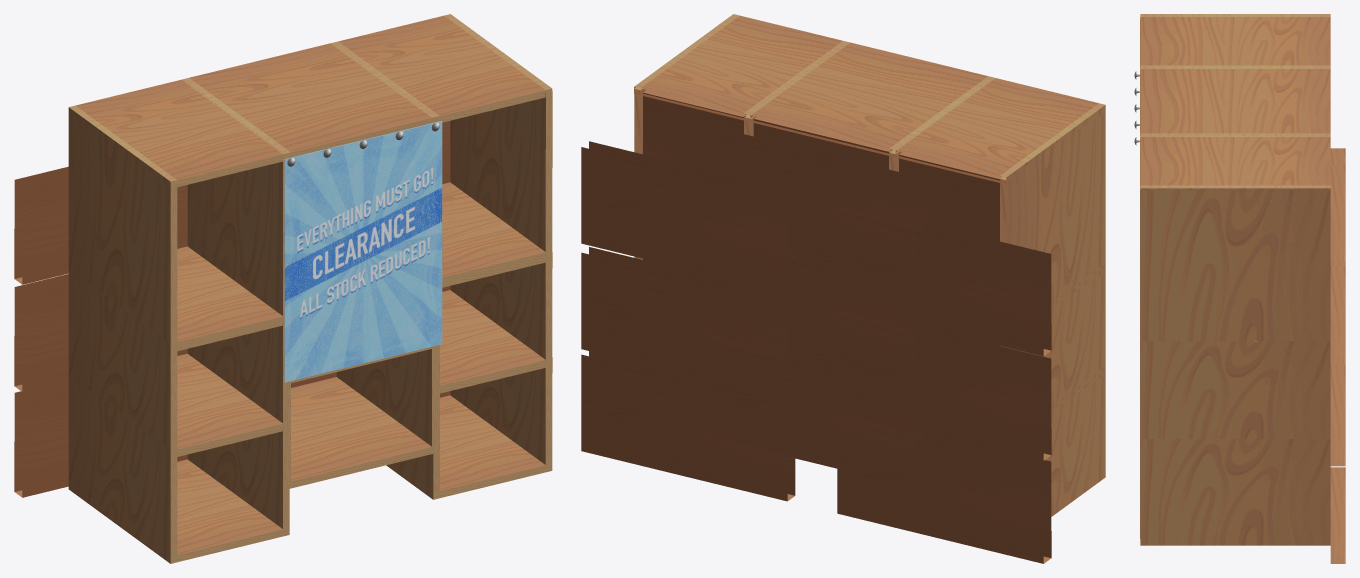
File: layout_poster_3_by_3_closed.fbx
3 renders of one model, left to right at view 1: azimuth 30°, elevation 25°; view 2: azimuth 150°, elevation 25°; view 3: azimuth 270°, elevation 25°, orthographic. The views are drawn at different scales.
Parts seen in each view (by area): view 1: Mesh-Poster-Large01, Shelf-CL-01 8, Shelf-TM-00 5, Shelf-CL-01 6, Shelf-CL-01 7, Shelf-CR-01 2, Shelf-TM-00 8, Shelf-TM-00 2, Shelf-CR-01 8, Shelf-BM-00 3, Shelf-BM-00 6, Shelf-BM-00 (+21 smaller); view 2: Shelf-Back-00 (1) 7, Shelf-Back-00 (1) 2, Shelf-Back-00 (1) 6, Shelf-Back-00 (1) 8, Shelf-Back-00 (1) 3, Shelf-Back-00 (1) 5, Shelf-Back-00 (1) 1, Shelf-Back-00 (1), Shelf-Back-00 (1) 4, Shelf-TM-00 5, Shelf-CL-01 8, Shelf-TM-00 2 (+10 smaller); view 3: Shelf-CR-01 2, Shelf-CR-01, Shelf-CR-01 1, Shelf-TM-00 5, Shelf-TM-00 2, Shelf-TM-00 8, Shelf-Back-00 (1) 1, Shelf-Back-00 (1), Shelf-Back-00 (1) 2, Shelf-Back-00 (1) 5, Shelf-CR-00, Shelf-CR-00 (1) 2 (+4 smaller).
Part boxes in pixels (x1=…): Mesh-Poster-Large01: x1=284, y1=121, x2=442, y2=382; Shelf-CL-01 8: x1=68, y1=110, x2=177, y2=344; Shelf-TM-00 5: x1=189, y1=43, x2=431, y2=157; Shelf-CL-01 6: x1=68, y1=375, x2=177, y2=556; Shelf-CL-01 7: x1=68, y1=270, x2=177, y2=449; Shelf-CR-01 2: x1=450, y1=91, x2=552, y2=253; Shelf-TM-00 8: x1=75, y1=80, x2=282, y2=187; Shelf-TM-00 2: x1=338, y1=15, x2=545, y2=122; Shelf-CR-01 8: x1=187, y1=155, x2=289, y2=316; Shelf-BM-00 3: x1=291, y1=377, x2=431, y2=488; Shelf-BM-00 6: x1=177, y1=459, x2=282, y2=562; Shelf-BM-00: x1=440, y1=395, x2=545, y2=497; Shelf-Back-00 (1) 7: x1=837, y1=315, x2=1051, y2=460; Shelf-Back-00 (1) 2: x1=581, y1=141, x2=795, y2=293; Shelf-Back-00 (1) 6: x1=837, y1=418, x2=1051, y2=563; Shelf-Back-00 (1) 8: x1=837, y1=211, x2=1051, y2=356; Shelf-Back-00 (1) 3: x1=709, y1=341, x2=923, y2=487; Shelf-Back-00 (1) 5: x1=709, y1=127, x2=923, y2=279; Shelf-Back-00 (1) 1: x1=581, y1=247, x2=795, y2=387; Shelf-Back-00 (1): x1=581, y1=351, x2=795, y2=501; Shelf-Back-00 (1) 4: x1=709, y1=238, x2=923, y2=383; Shelf-TM-00 5: x1=752, y1=42, x2=987, y2=155; Shelf-CL-01 8: x1=1000, y1=112, x2=1105, y2=302; Shelf-TM-00 2: x1=641, y1=15, x2=842, y2=120; Shelf-CR-01 2: x1=1140, y1=187, x2=1330, y2=342; Shelf-CR-01: x1=1140, y1=439, x2=1330, y2=538; Shelf-CR-01 1: x1=1140, y1=341, x2=1330, y2=440; Shelf-TM-00 5: x1=1140, y1=69, x2=1330, y2=133; Shelf-TM-00 2: x1=1140, y1=137, x2=1330, y2=185; Shelf-TM-00 8: x1=1140, y1=17, x2=1330, y2=65; Shelf-Back-00 (1) 1: x1=1330, y1=369, x2=1345, y2=466; Shelf-Back-00 (1): x1=1330, y1=467, x2=1345, y2=563; Shelf-Back-00 (1) 2: x1=1330, y1=268, x2=1345, y2=364; Shelf-Back-00 (1) 5: x1=1330, y1=165, x2=1345, y2=261; Shelf-CR-00: x1=1140, y1=538, x2=1330, y2=545; Shelf-CR-00 (1) 2: x1=1140, y1=185, x2=1330, y2=190.
Size of the model in its own units: 215 by 166 by 88.69.
